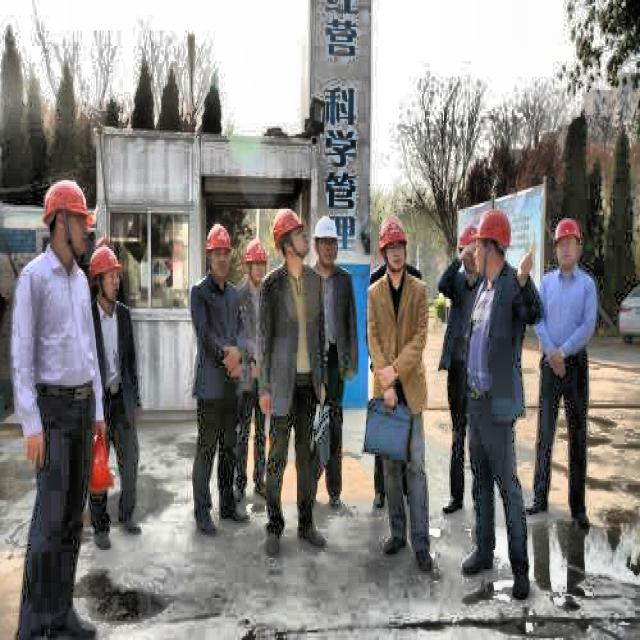helmet: (44, 172, 98, 268), (475, 205, 516, 278), (378, 209, 413, 274), (203, 220, 237, 286), (88, 239, 124, 301), (271, 207, 311, 261), (550, 215, 584, 272), (312, 215, 343, 268), (244, 232, 272, 285), (457, 220, 477, 276)
